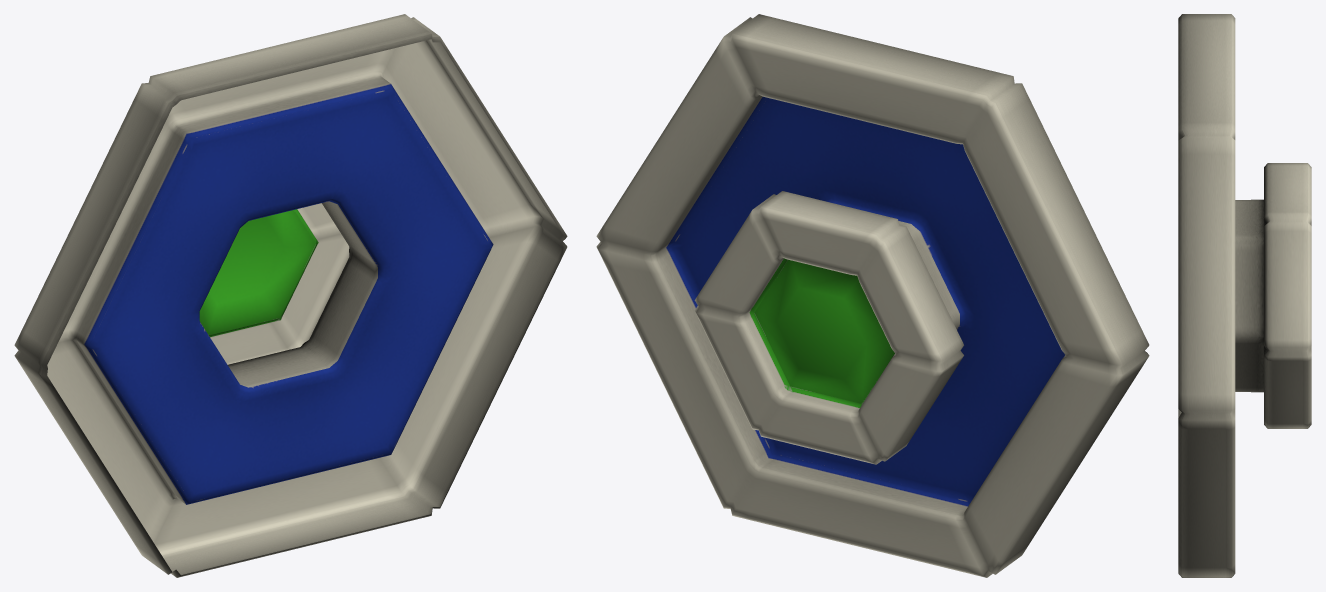
Rendered from fountain2.fbx.
3 views of the same model, side by side, from view 1: azimuth 30°, elevation 25°; view 2: azimuth 150°, elevation 25°; view 3: azimuth 270°, elevation 25° (orthographic). The views are drawn at different scales.
Parts seen in each view (by area): view 1: fountain; view 2: fountain; view 3: fountain.
Boxes of the visible parts, left/top/right/bottom form: fountain: left=14, top=14, right=567, bottom=577; fountain: left=596, top=14, right=1149, bottom=577; fountain: left=1178, top=14, right=1311, bottom=577.
Size of the model in its own units: 59360 by 51962 by 14000.
